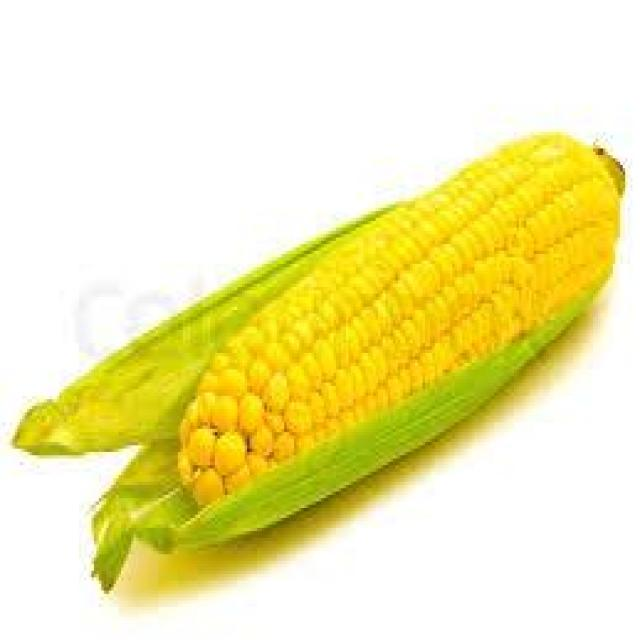organic: (12, 132, 625, 591)
